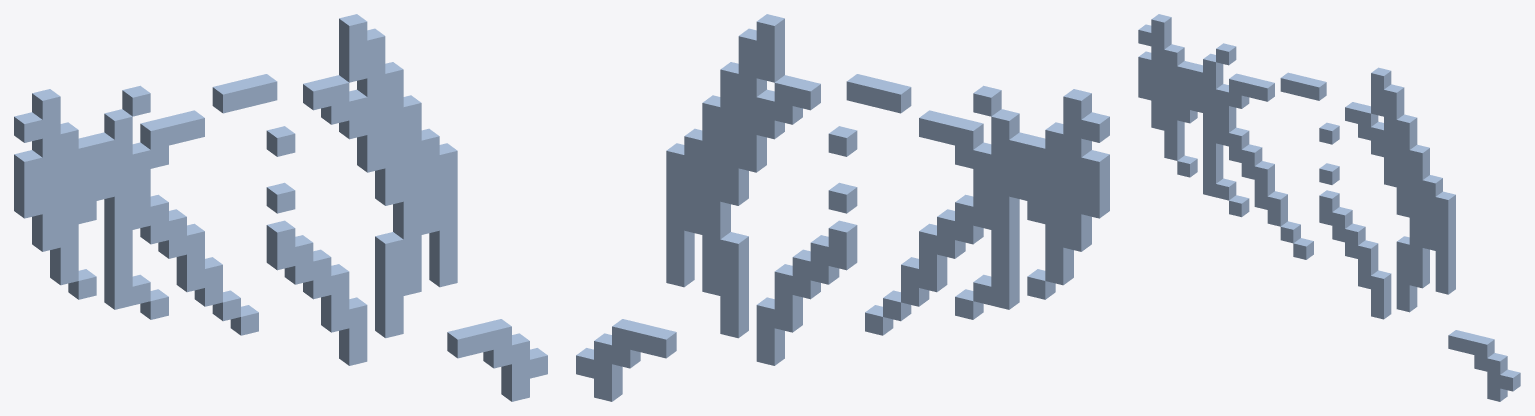
Rendered from Fight_710_2_06_fx.obj.
3 views of the same model, side by side, from view 1: azimuth 30°, elevation 25°; view 2: azimuth 150°, elevation 25°; view 3: azimuth 330°, elevation 25° (orthographic). The views are drawn at different scales.
Bounding box in the file's own units: 2.9 × 2.2 × 0.1.
